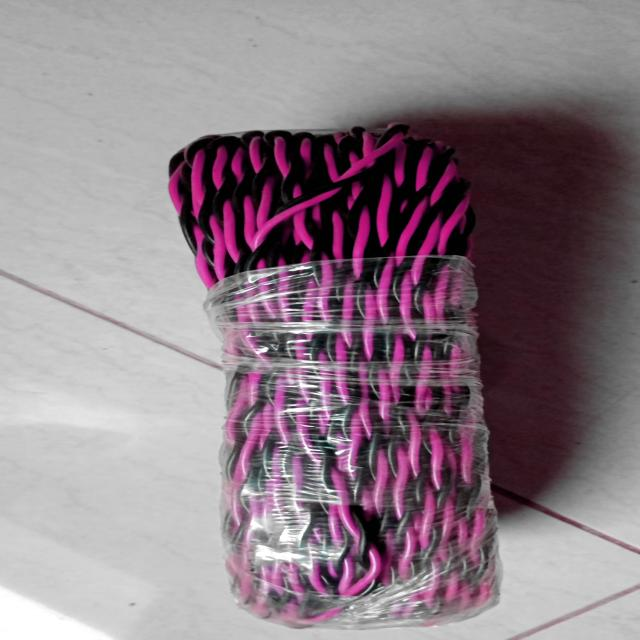Connecting Wires: (150, 121, 550, 639)
